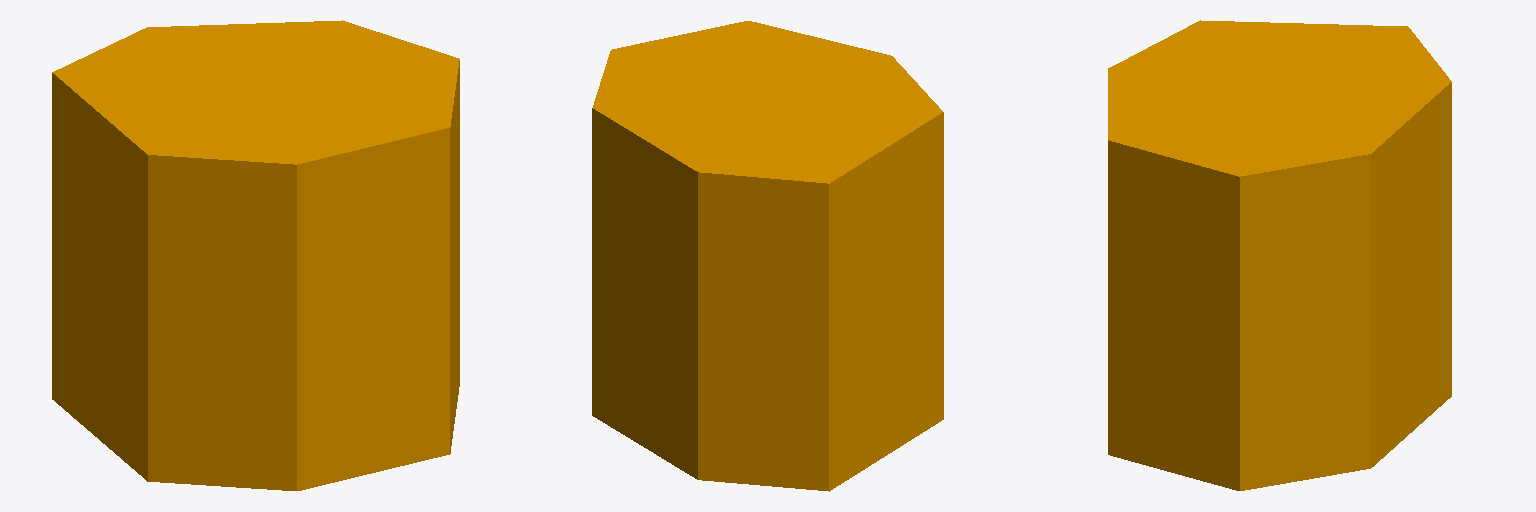
robot.urdf — object:
<?xml version="1.0"?>
<robot name="object">
  <link name="object">
    <visual>
      <origin xyz="0 0 0"/>
      <geometry>
        <mesh filename="meshes/generated/col_054.obj" scale="0.03 0.03 0.03"/>
      </geometry>
    </visual>
    <collision>
      <origin xyz="0 0 0"/>
      <geometry>
        <mesh filename="meshes/generated/col_054.obj" scale="0.03 0.03 0.03"/>
      </geometry>
    </collision>
    <inertial>
      <density value="1000.0"/>
    </inertial>
  </link>
</robot>

--- What the picture shows (computed from the rendered views, not written in the file) ---
The picture shows the robot from 3 angles, left to right: view 1: azimuth 30°, elevation 25°; view 2: azimuth 150°, elevation 25°; view 3: azimuth 270°, elevation 25°; orthographic projection.
Robot: object — 1 links, 0 joints (none); root link object; default pose: every joint at zero.
Visible links, largest first — view 1: object; view 2: object; view 3: object.
Boxes of the visible links, box(x1,y1,x2,y2) form: object: box(52, 20, 459, 490); object: box(592, 21, 943, 491); object: box(1108, 20, 1451, 490).
Size in the robot's own frame: 0.0639 by 0.0594 by 0.06 metres.
1 mesh visuals loaded from 1 distinct referenced files (1 OBJ).
